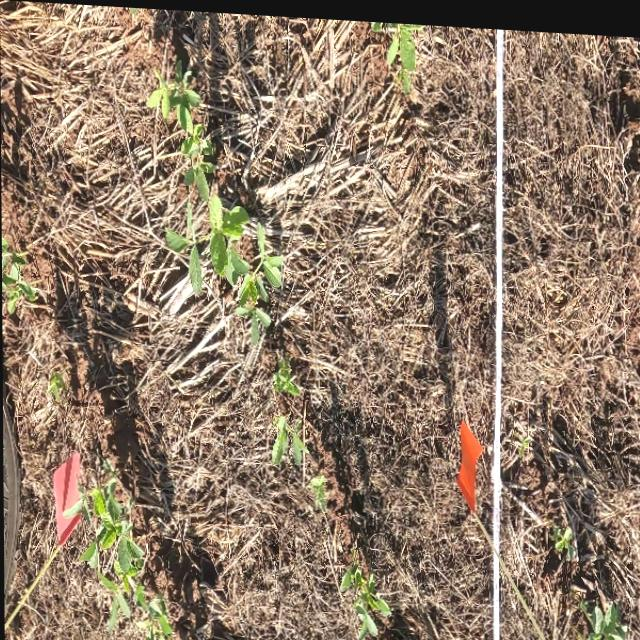soy_plant: (148, 65, 283, 341), (64, 464, 174, 640), (340, 558, 390, 635), (2, 238, 35, 312), (271, 413, 308, 461), (273, 358, 298, 391)
